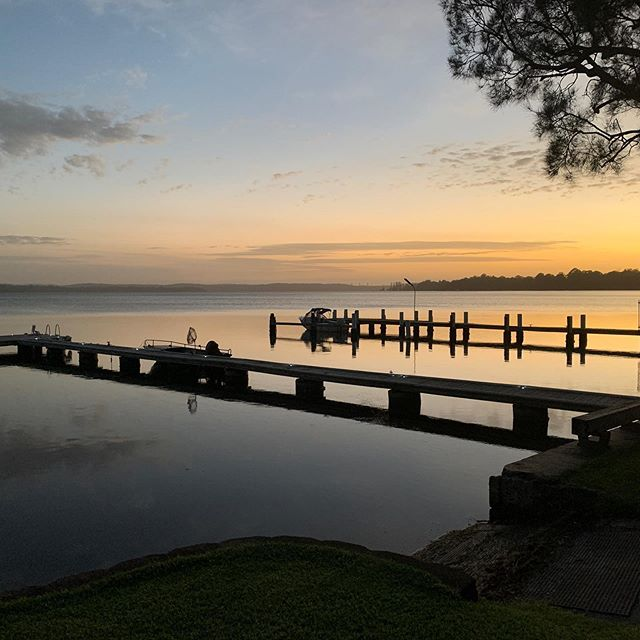sea: (1, 294, 620, 549)
sky: (1, 1, 620, 263)
tree: (440, 1, 640, 182)
